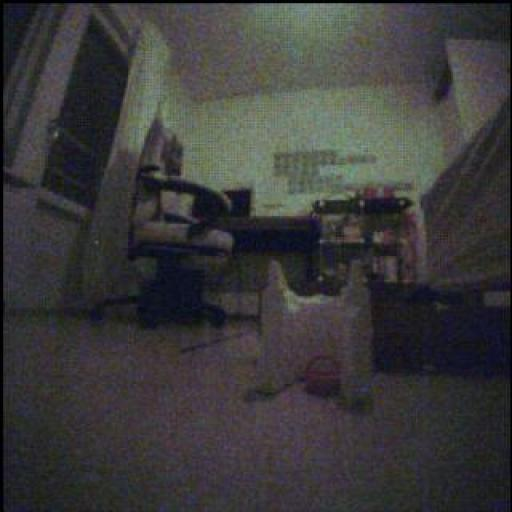basket: (307, 356, 342, 398), (364, 187, 380, 201), (384, 187, 397, 200)
